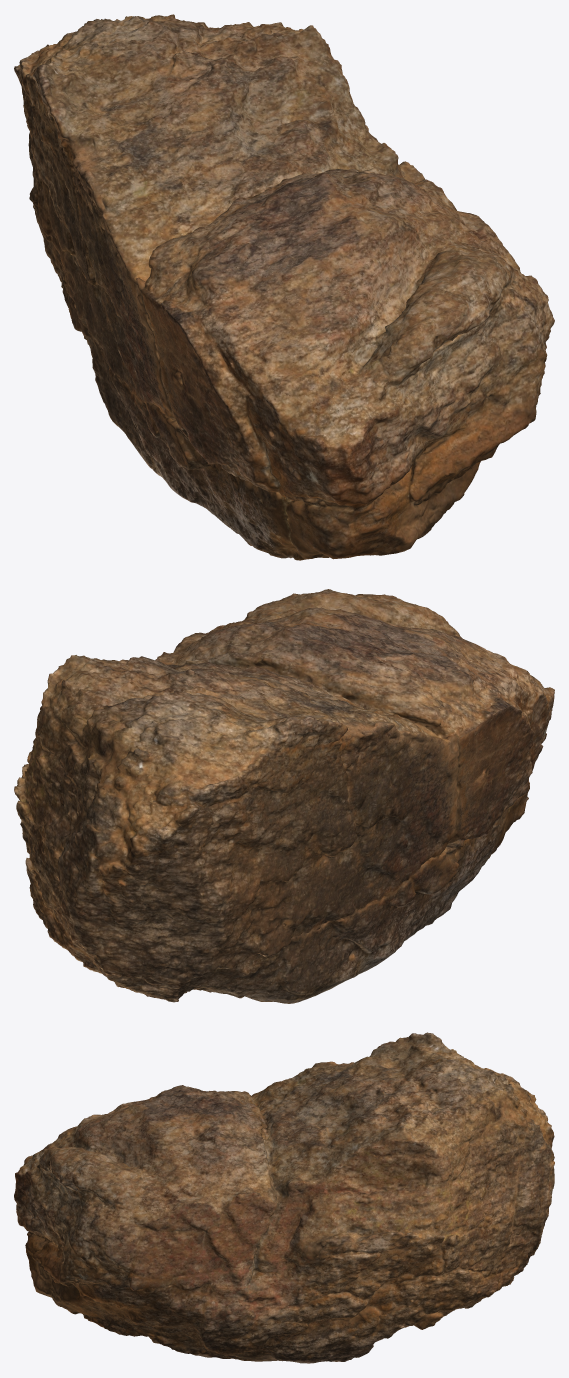
File: roc.obj
3 views of the same model, one above another, from view 1: azimuth 30°, elevation 25°; view 2: azimuth 150°, elevation 25°; view 3: azimuth 270°, elevation 25° (orthographic). The views are drawn at different scales.
Parts seen in each view (by area): view 1: namaqualand_boulder_06_LOD0_namaqualand_boulder_06; view 2: namaqualand_boulder_06_LOD0_namaqualand_boulder_06; view 3: namaqualand_boulder_06_LOD0_namaqualand_boulder_06.
Part boxes in pixels (x1,y1,x2,y2): namaqualand_boulder_06_LOD0_namaqualand_boulder_06: (14,14,554,560); namaqualand_boulder_06_LOD0_namaqualand_boulder_06: (14,589,554,1003); namaqualand_boulder_06_LOD0_namaqualand_boulder_06: (14,1032,554,1363).
Bounding box in the file's own units: 0.675 × 0.6516 × 1.21.
Materials: 1 (1 with a texture image).
